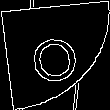O_N: (29, 27, 81, 83)
